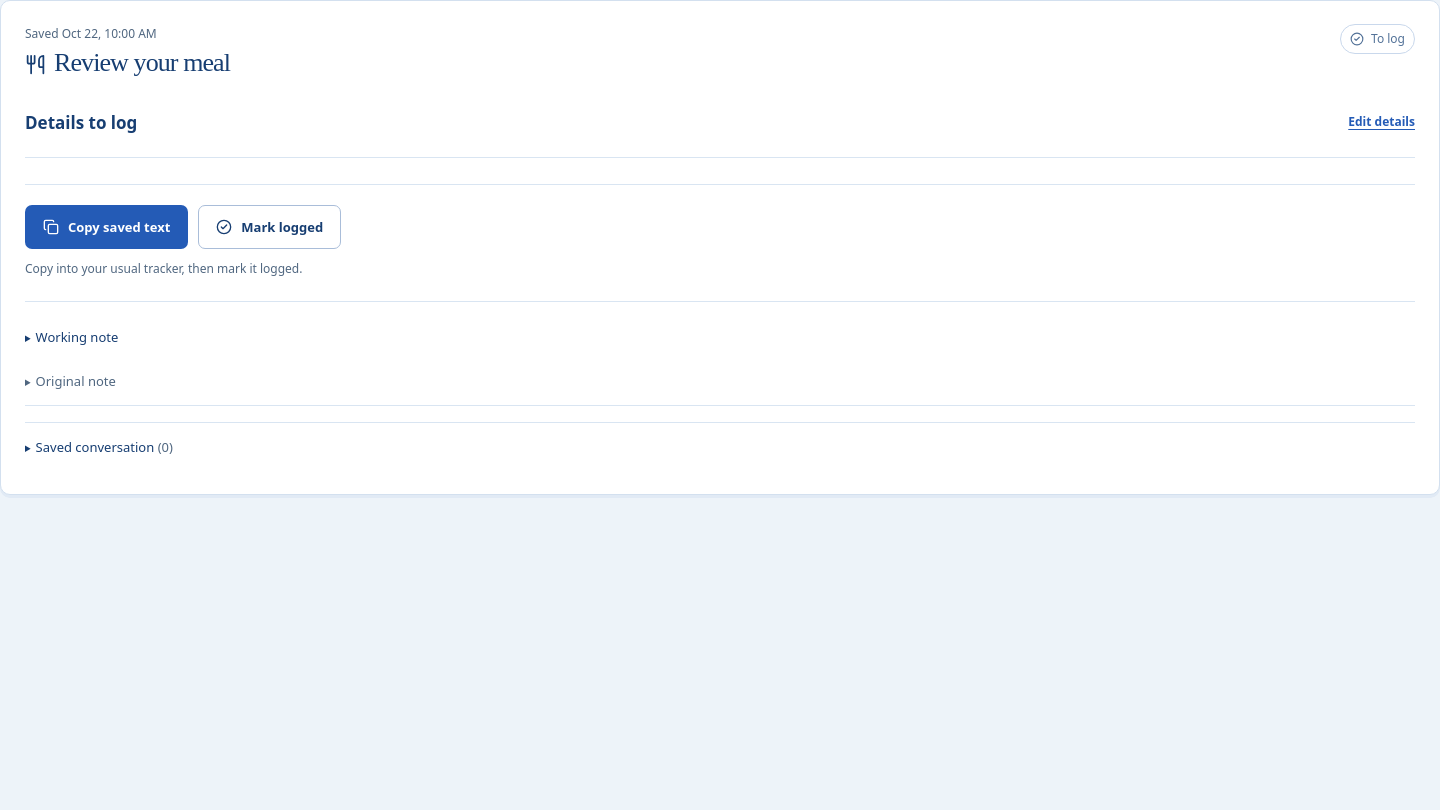
Test: working-note edits keep the original capture visible and block saved actions
Click the heading "Working note".
click(77, 337)  # box [36,328,118,346]
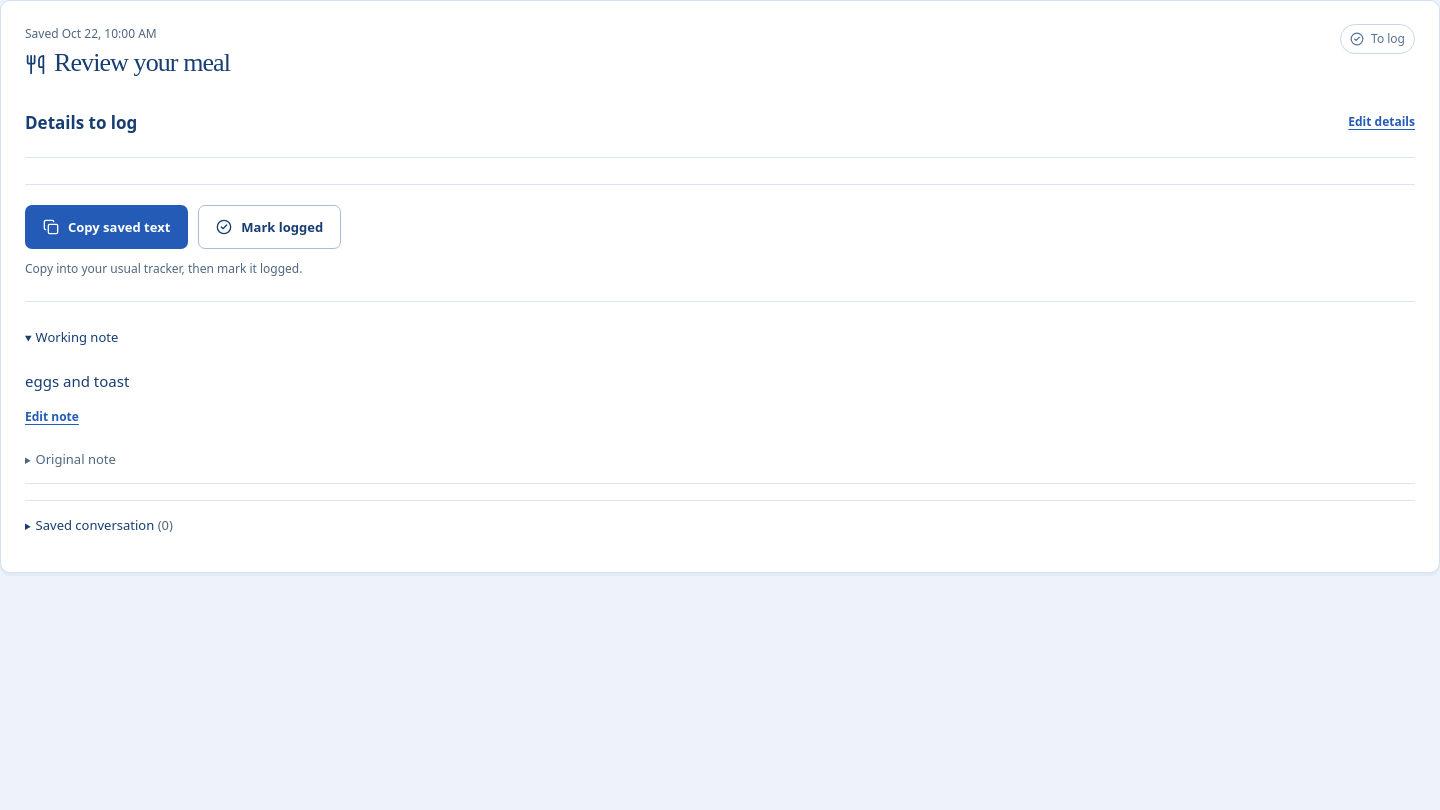
Click the button "Edit note".
click(52, 417)  # box [25,395,79,439]
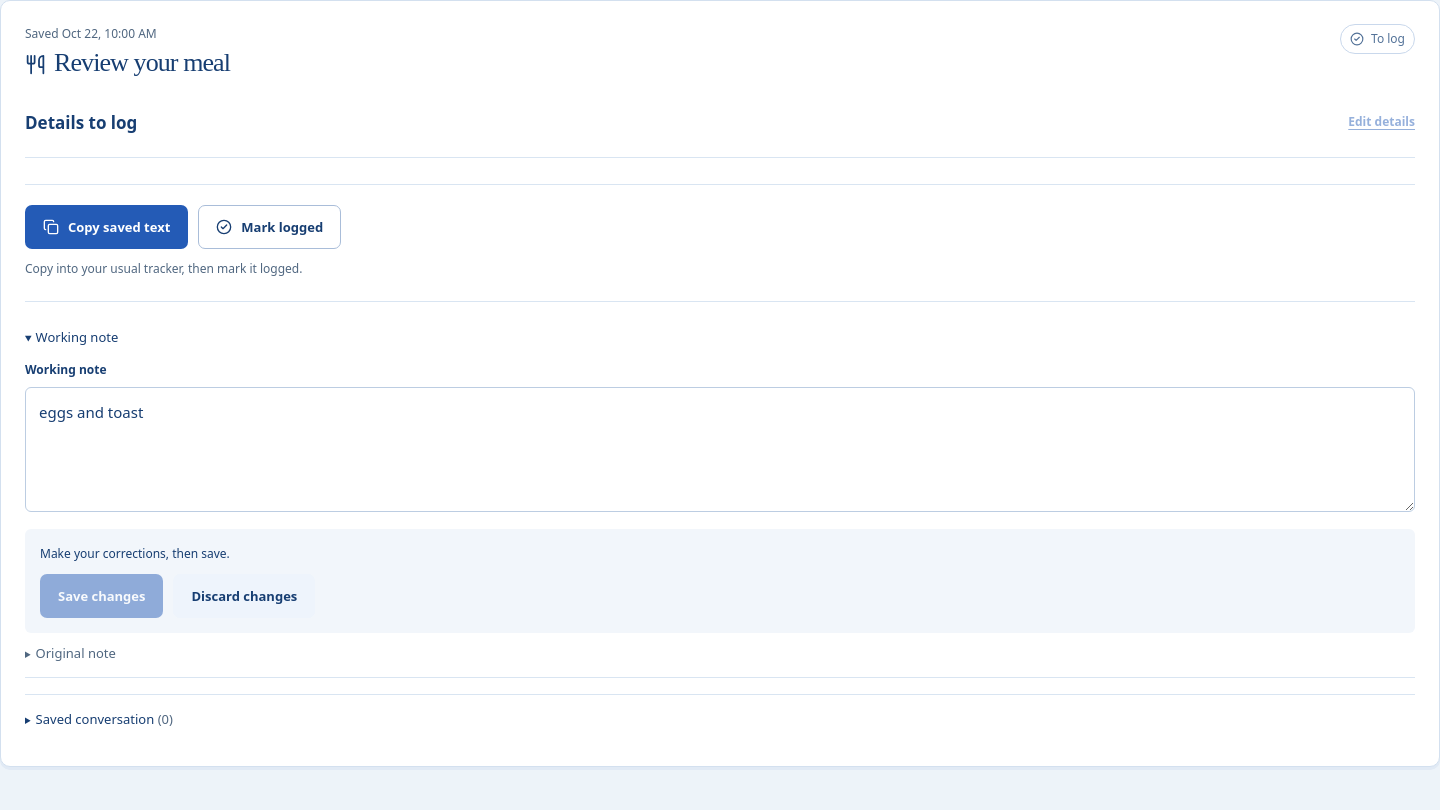
Replace the text in the text box labelled "Working note" with "two eggs and toast" at [720, 449], box [25,387,1415,512]
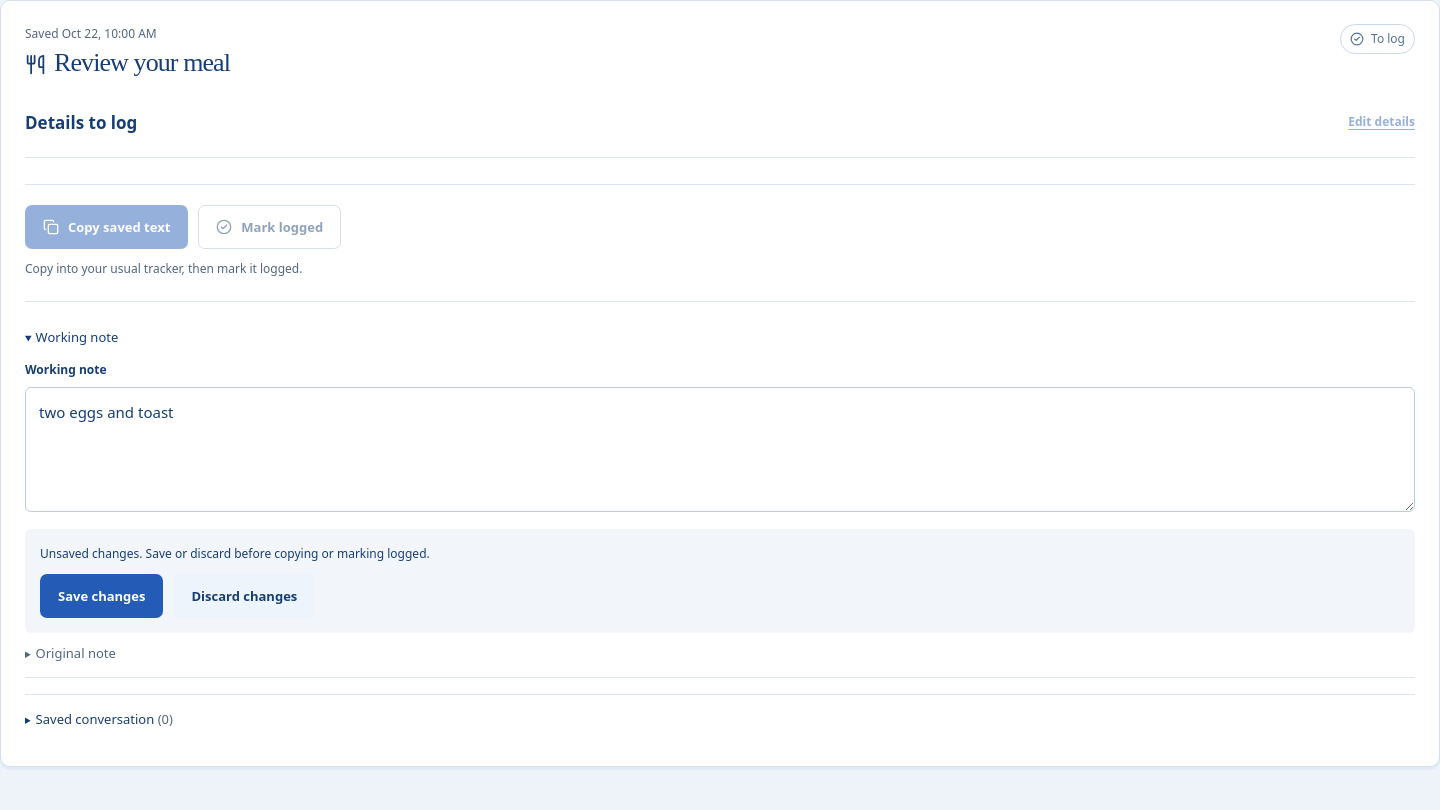
Now the button "Mark logged" is disabled, box [198,205,341,249]
Click the heading "Original note".
click(76, 653)  # box [36,644,116,662]
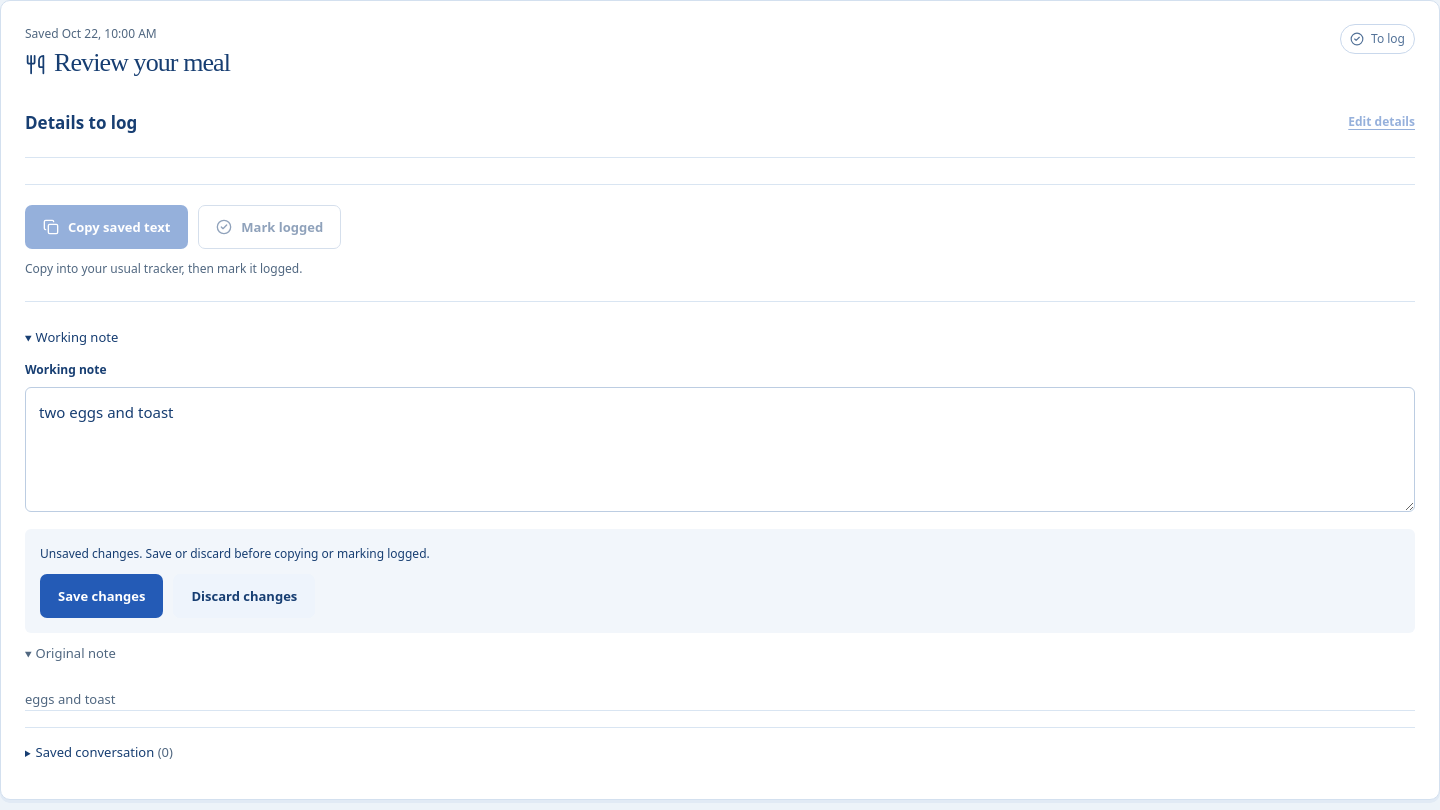
Now the text "eggs and toast" is shown, box [25,690,115,708]
